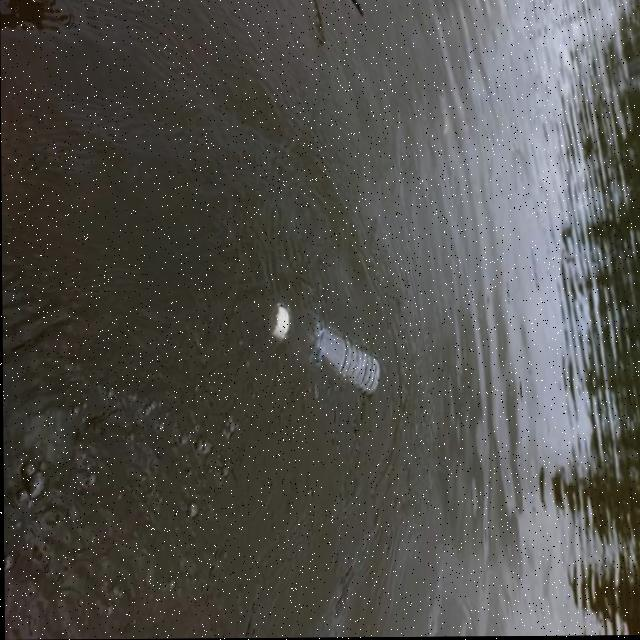waterbottle: (252, 284, 398, 399)
